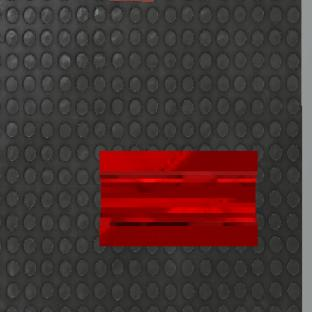objects: (98, 148, 261, 249)
